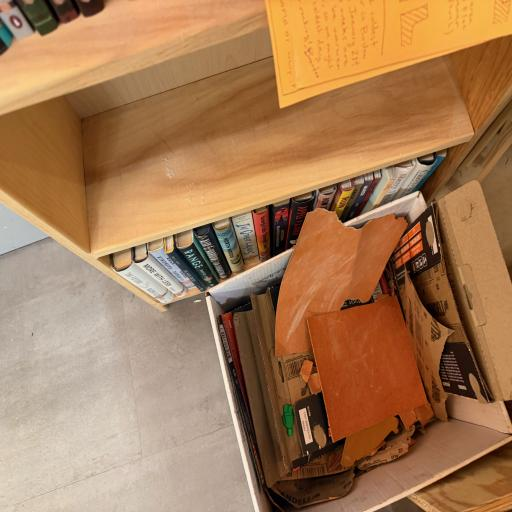Lego-Dude: (282, 405, 295, 437)
